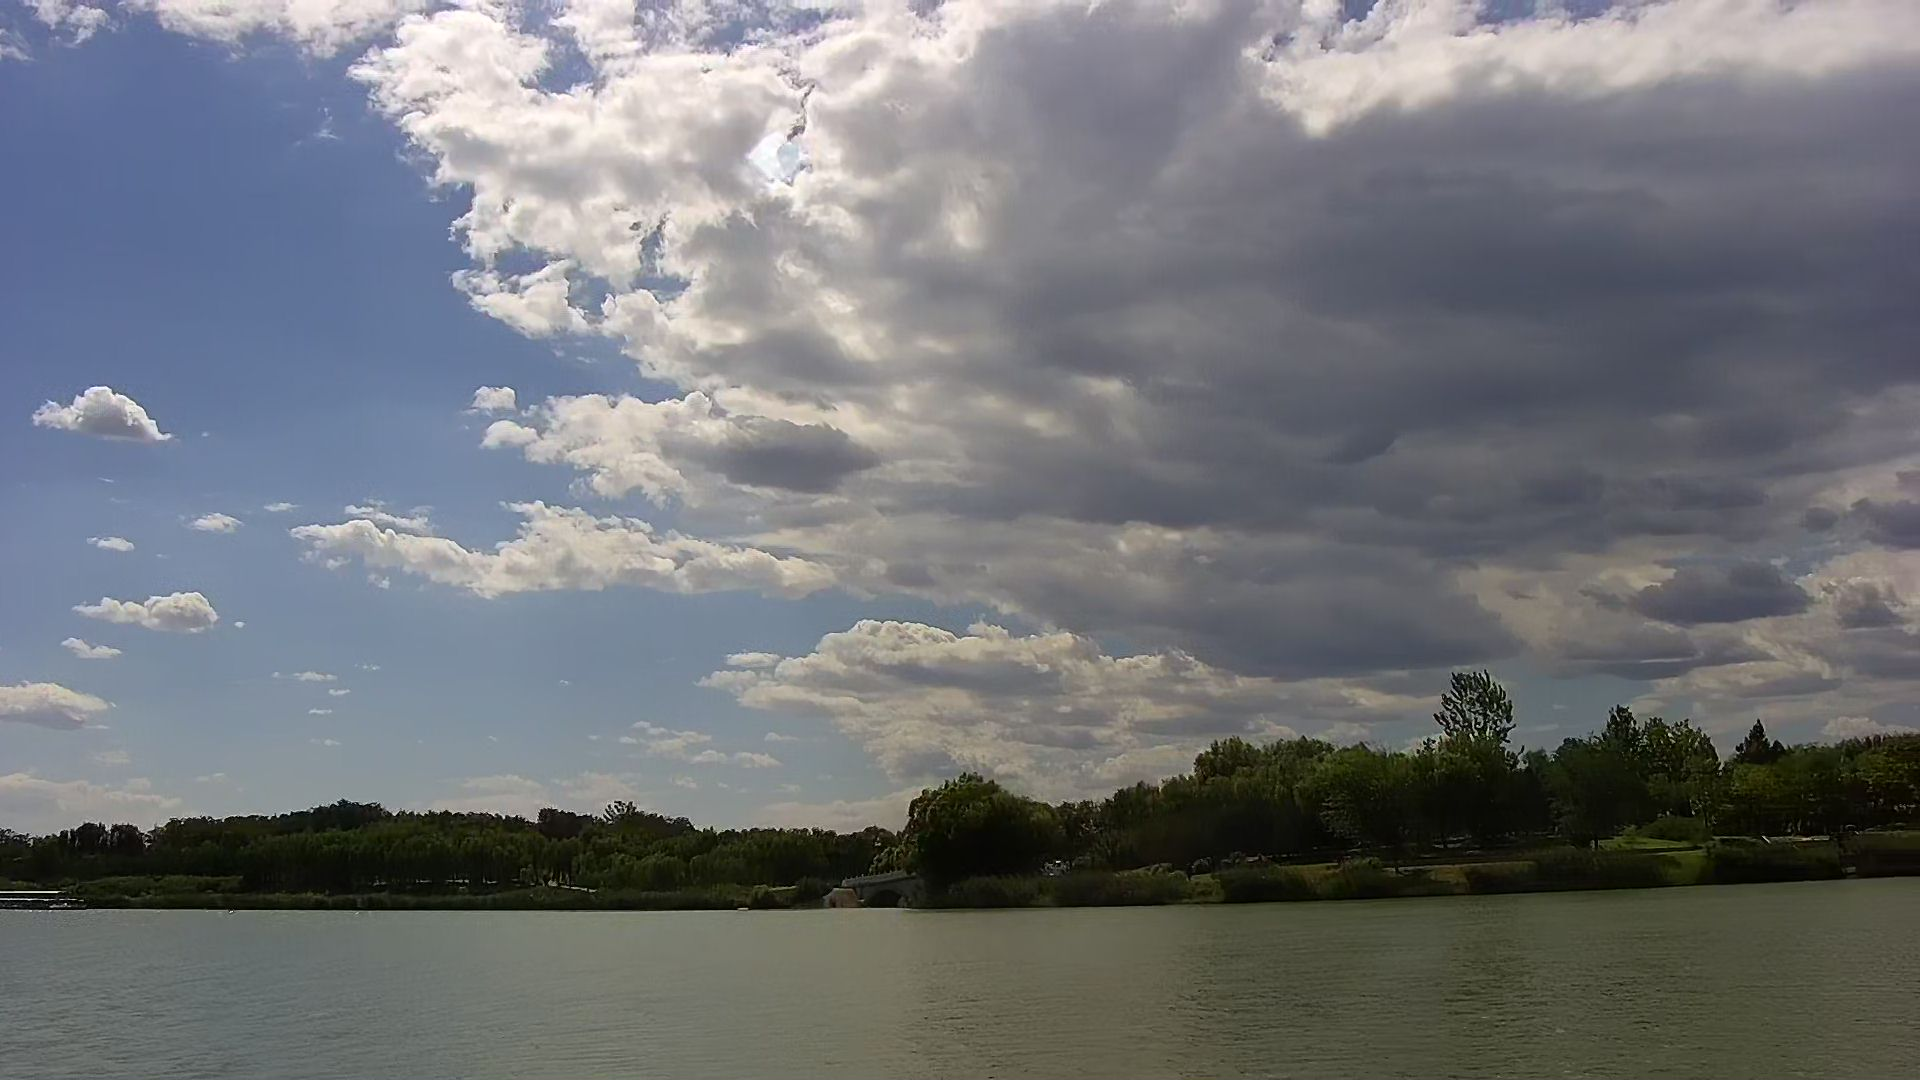harbor: (1, 889, 71, 913)
